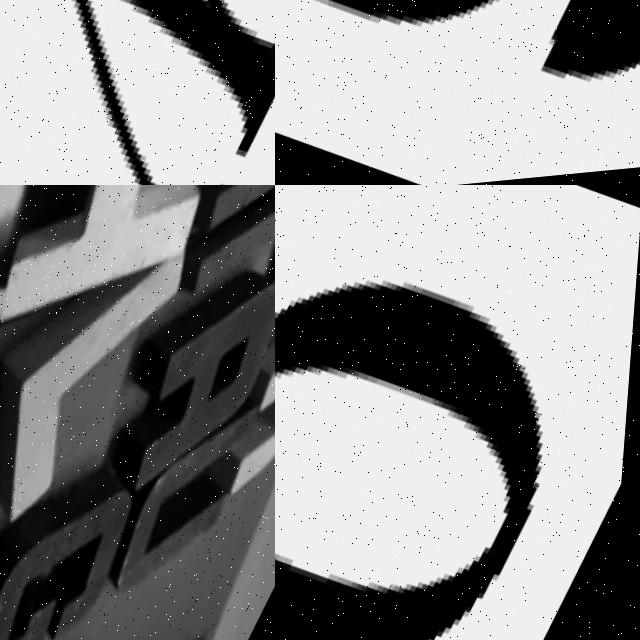6: (275, 0, 640, 176)
A: (89, 241, 275, 540)
G: (0, 455, 167, 640)
H: (0, 185, 268, 370)
L: (0, 213, 202, 558)
M: (153, 185, 275, 338)
Q: (275, 185, 638, 640)
R: (218, 298, 275, 529)
U: (102, 391, 275, 625)
W: (0, 0, 275, 185)
